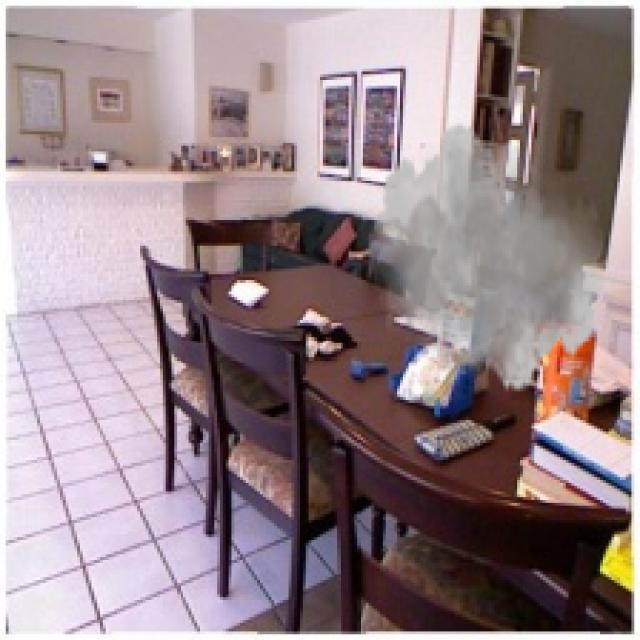Smoke: (368, 120, 608, 394)
